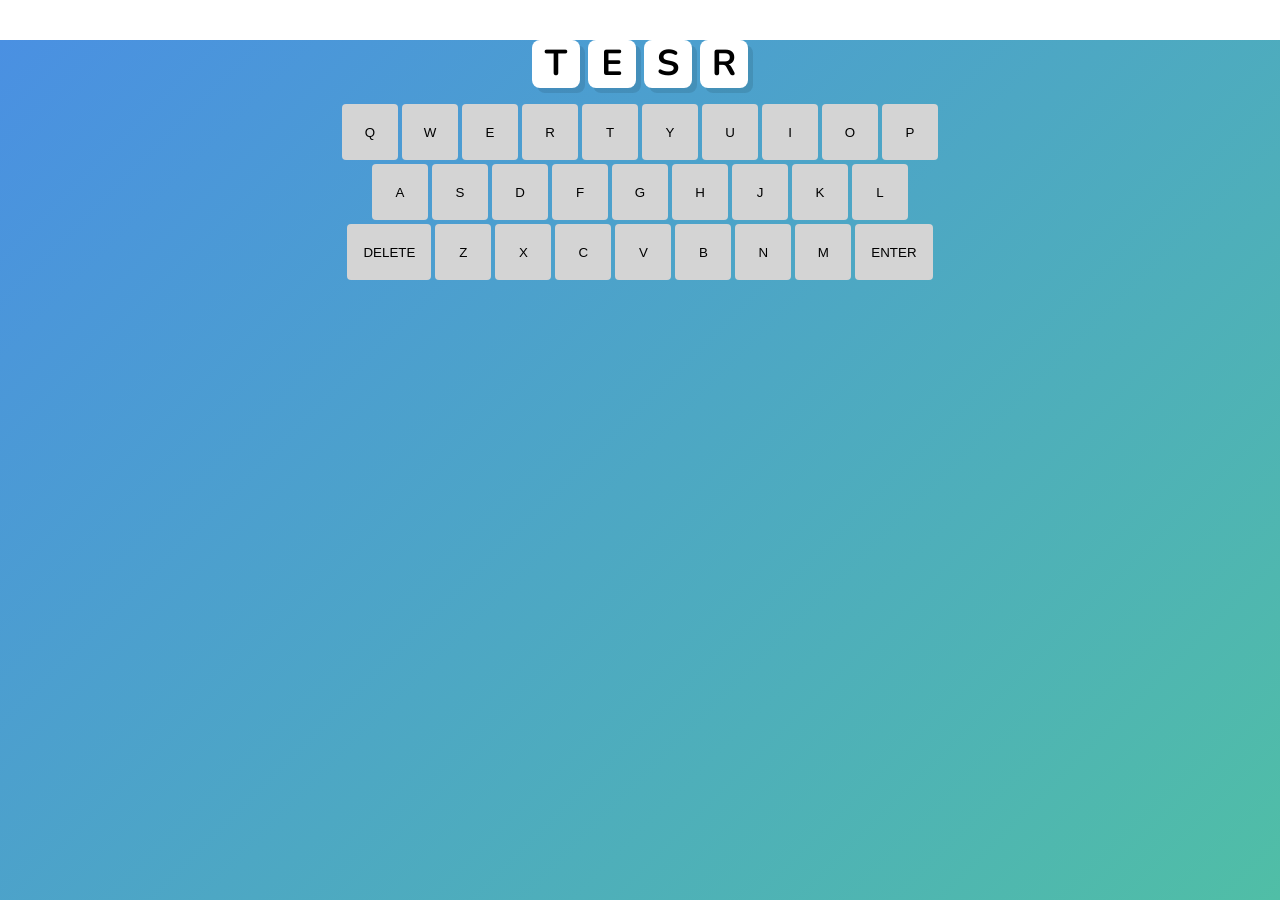
Test: GuessGame component › Losing modal › Should close the modal after clicking No in the Losing modal
Click the button "ENTER": coordinates (894, 252) [855,224,932,280]
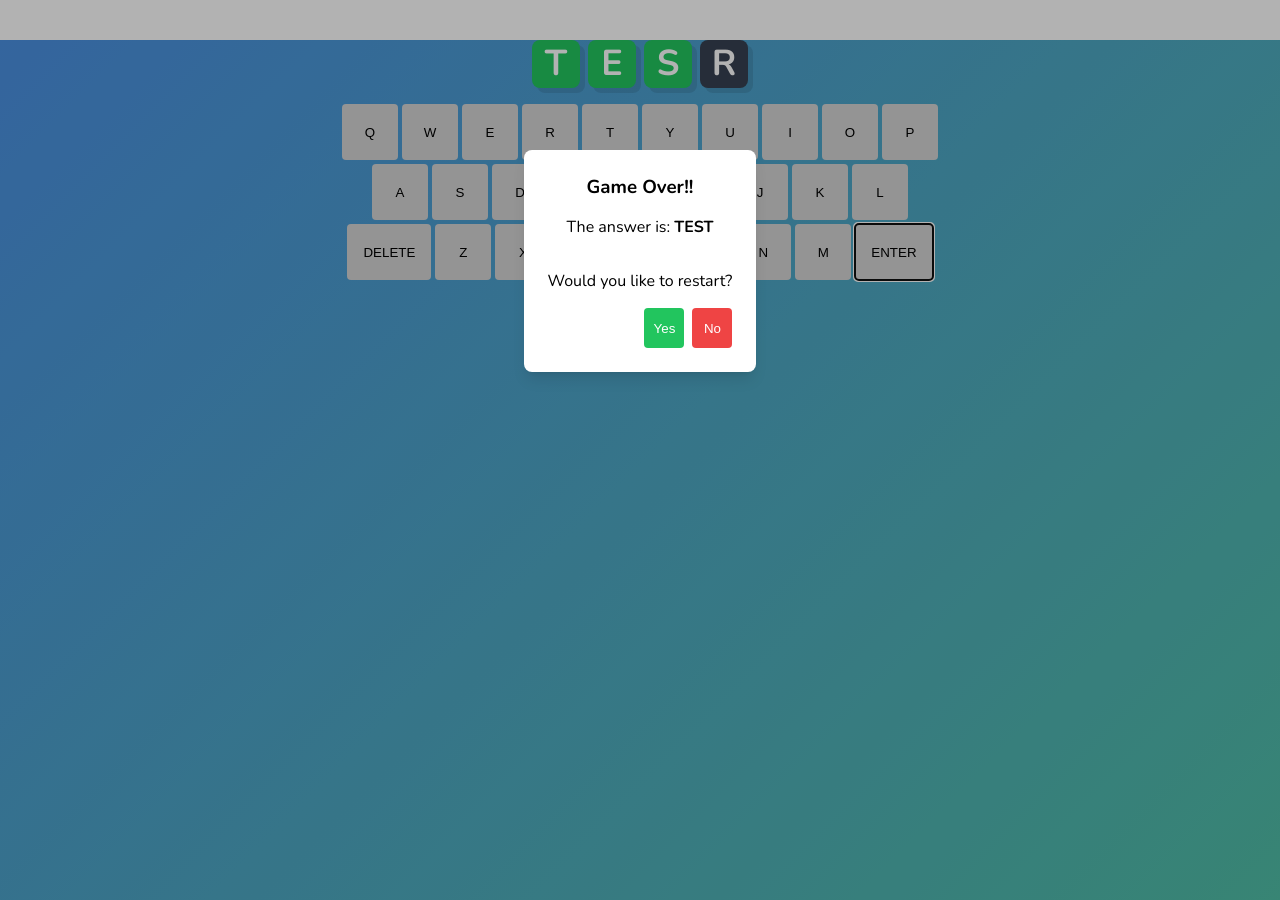
Click the button "No": coordinates (712, 328) [692,308,732,348]
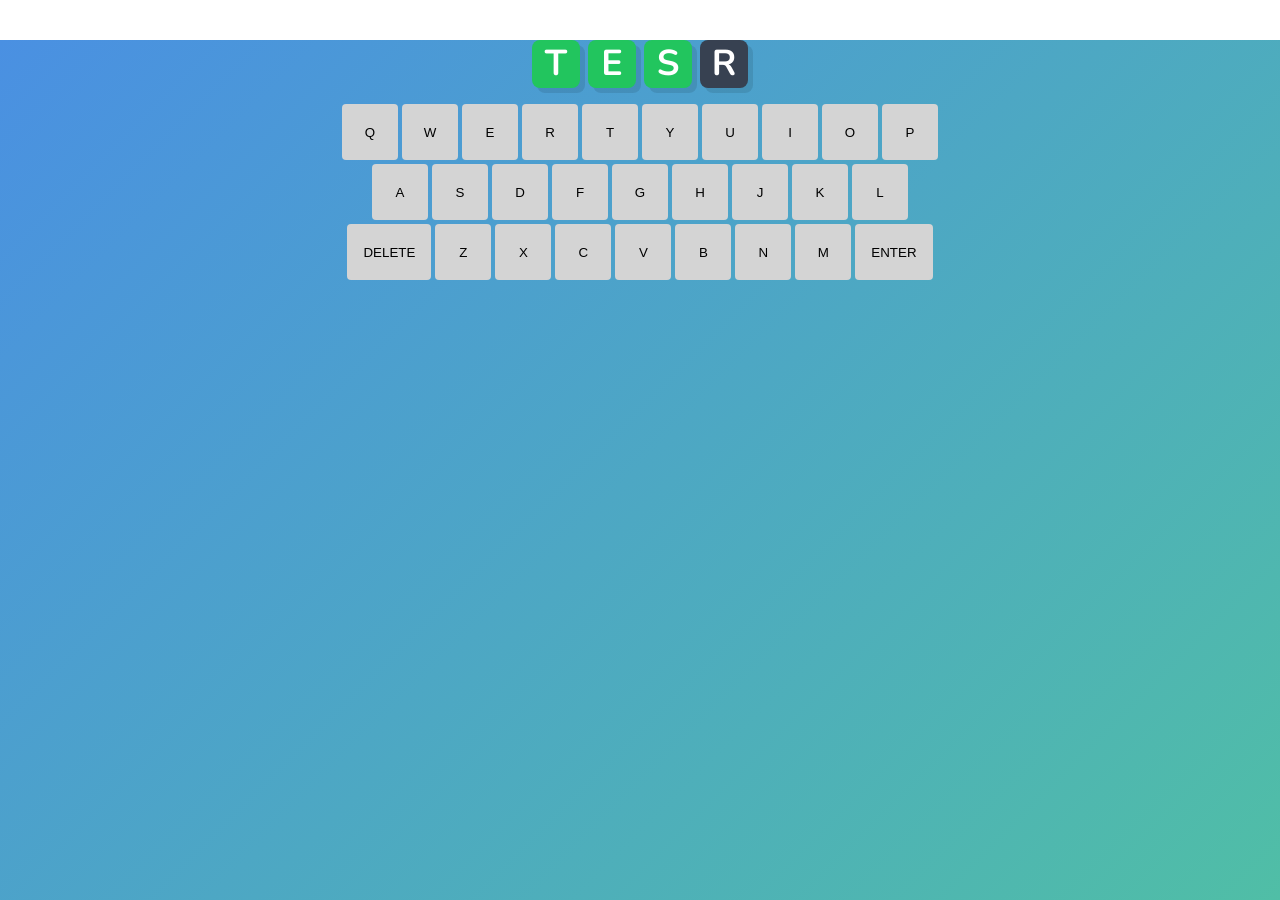
Check: the heading "Game Over!!" is gone
